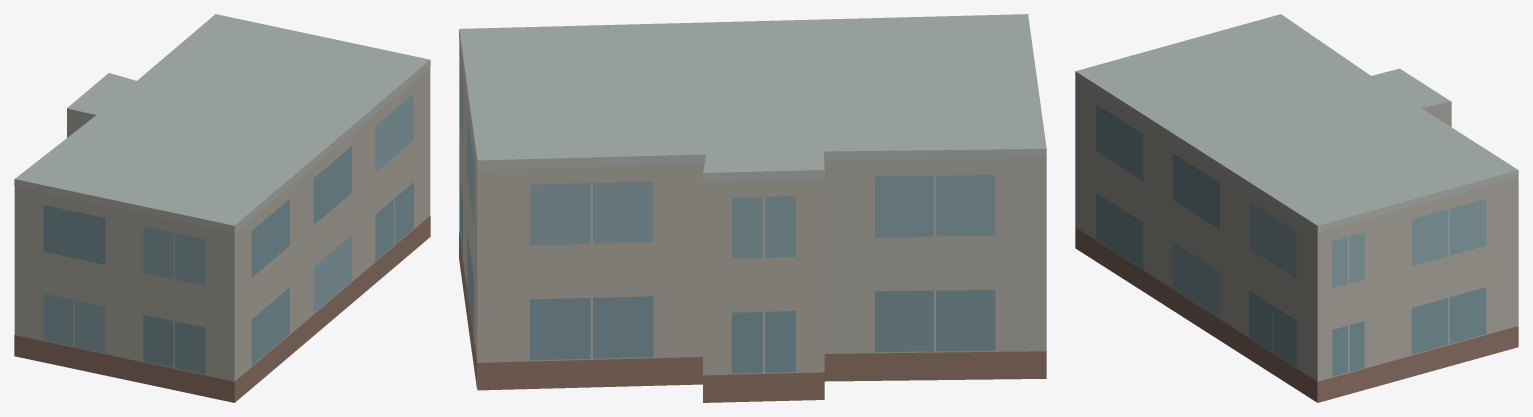
File: survey-upis-32624061.glb
The picture shows the model from 3 angles, left to right: view 1: azimuth 30°, elevation 25°; view 2: azimuth 150°, elevation 25°; view 3: azimuth 270°, elevation 25°; orthographic projection. The views are drawn at different scales.
Parts seen in each view (by area): view 1: survey-upis-32624061.tmp; view 2: survey-upis-32624061.tmp; view 3: survey-upis-32624061.tmp.
Part boxes in pixels (left/top/right/bottom): survey-upis-32624061.tmp: left=14, top=14, right=430, bottom=402; survey-upis-32624061.tmp: left=459, top=14, right=1046, bottom=402; survey-upis-32624061.tmp: left=1075, top=14, right=1518, bottom=402.
Size of the model in its own units: 15.66 by 6.1 by 13.85.
